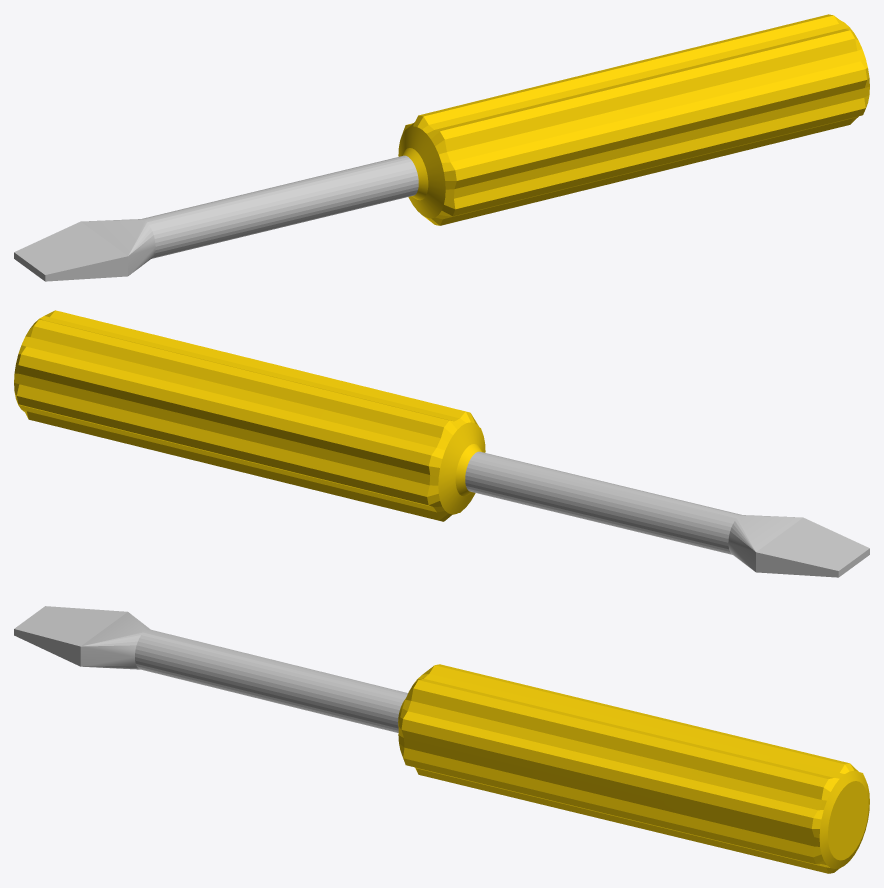
File: Screwdriver.fbx
3 views of the same model, one above another, from view 1: azimuth 30°, elevation 25°; view 2: azimuth 150°, elevation 25°; view 3: azimuth 330°, elevation 25° (orthographic).
Parts seen in each view (by area): view 1: Screwdriver; view 2: Screwdriver; view 3: Screwdriver.
Boxes of the visible parts, x1,y1,x2,y2 form: Screwdriver: (14, 14, 869, 281); Screwdriver: (14, 310, 869, 577); Screwdriver: (14, 606, 869, 873).
Bounding box in the file's own units: 1987 × 235 × 233.
Materials: 1 (1 with a texture image).
